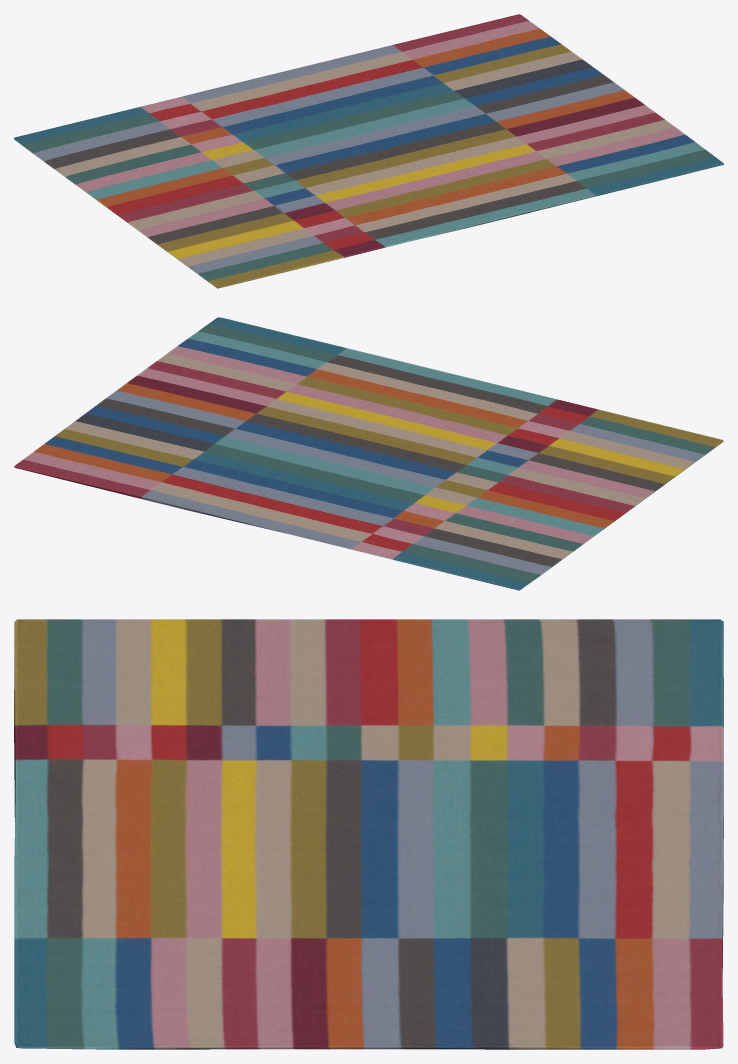
The model's file is halved_rug_flatwoven_handmade_multicolor.glb.
3 renders of one model, top to bottom at view 1: azimuth 30°, elevation 25°; view 2: azimuth 150°, elevation 25°; view 3: azimuth 270°, elevation 25°, orthographic. The views are drawn at different scales.
Parts seen in each view (by area): view 1: PRT_U_########_P01_S01_NV01; view 2: PRT_U_########_P01_S01_NV01; view 3: PRT_U_########_P01_S01_NV01.
Part boxes in pixels (box(x1,y1,x2,y2)): PRT_U_########_P01_S01_NV01: box(14, 14, 723, 288); PRT_U_########_P01_S01_NV01: box(14, 317, 723, 590); PRT_U_########_P01_S01_NV01: box(14, 619, 723, 1049).
Size of the model in its own units: 2.4 by 0.00822 by 1.68.
1 material, 1 textured.
